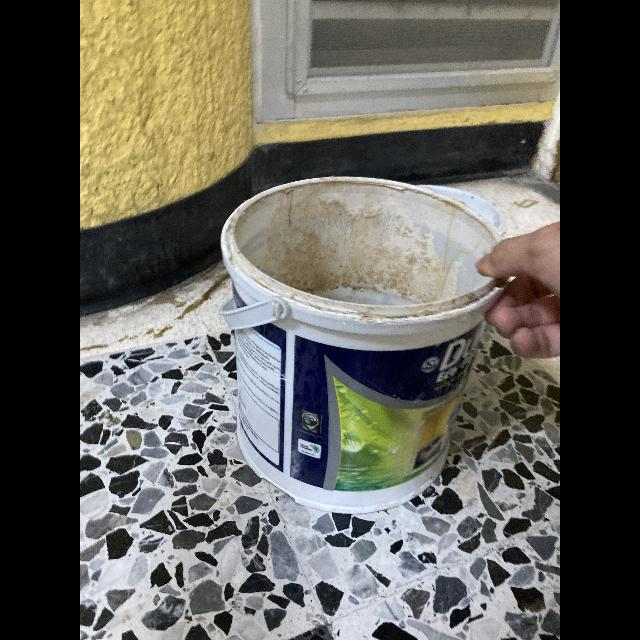paint_bucket: (216, 173, 504, 512)
